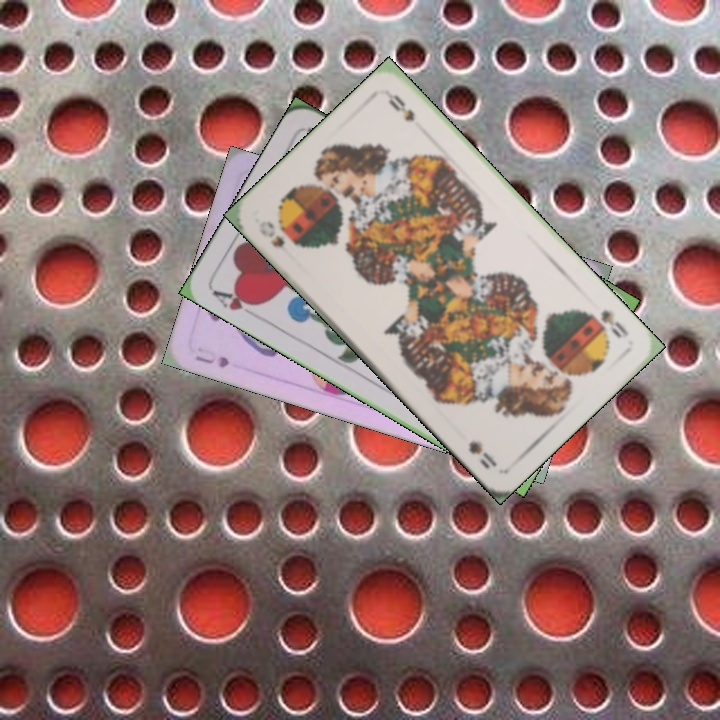HA: (208, 285, 264, 322)
SO: (254, 216, 302, 251), (596, 305, 631, 341)
SU: (191, 342, 232, 371)
